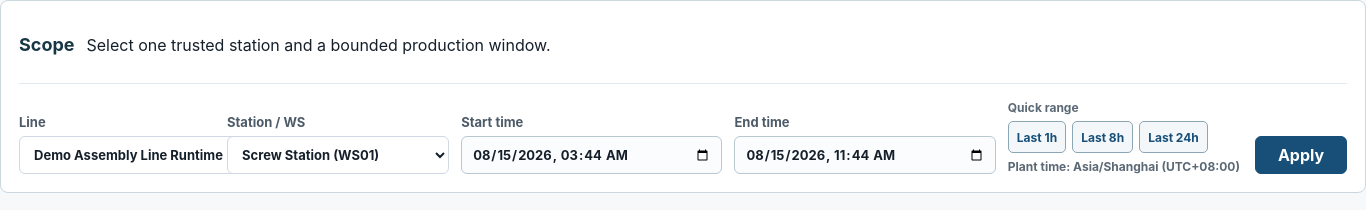
Test: StationSummaryQueryControls › resets station to the first enabled station when line changes
Expected: the dropdown labelled "Station / WS" shows "Screw Station (WS01)", [227,136,449,174]
Select "Second Line (LINE_002)" in the dropdown labelled "Line" at point(170, 155), box [19,136,321,174]
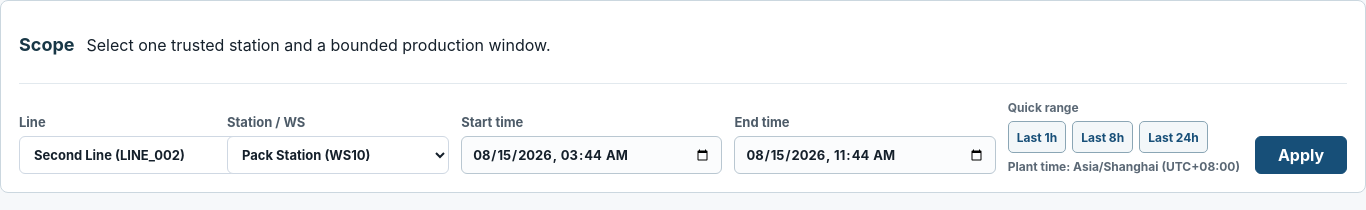
Now the dropdown labelled "Station / WS" shows "Pack Station (WS10)", box [227,136,449,174]
